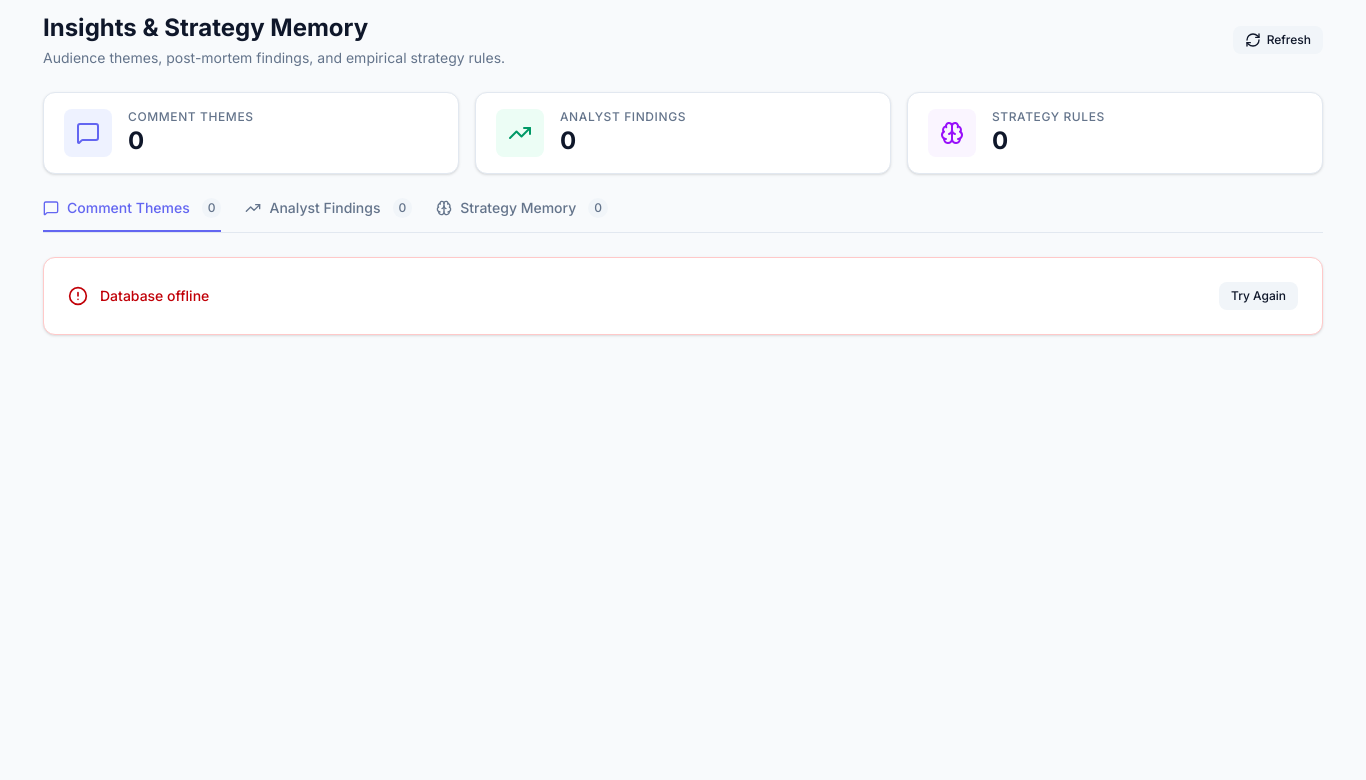
it: InsightsScreen › handles error state and allows retry
Expected: the text "Database offline" is shown, [100,286,209,306]
Click the button "Try Again" at (1258,296), box [1219,282,1298,310]
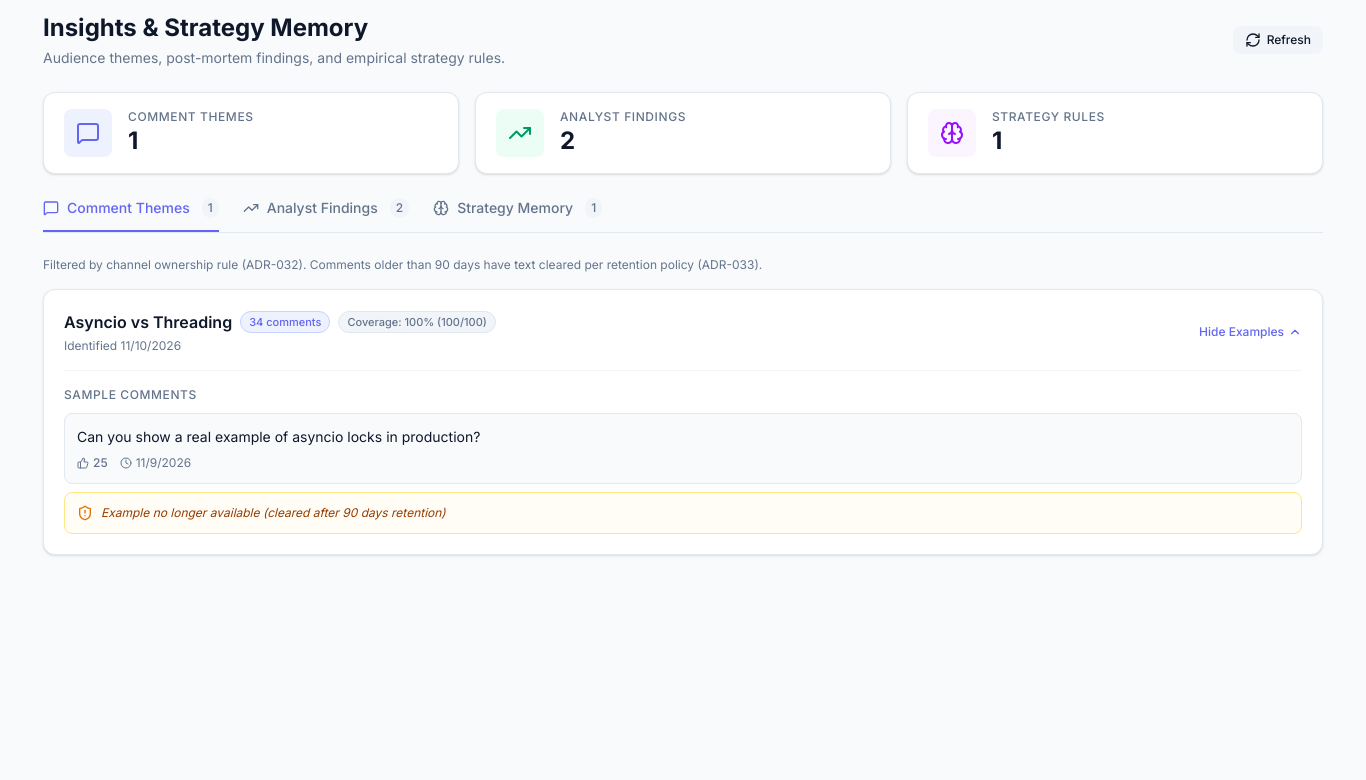
Result: the heading "Asyncio vs Threading" is shown at [64,310,232,334]
